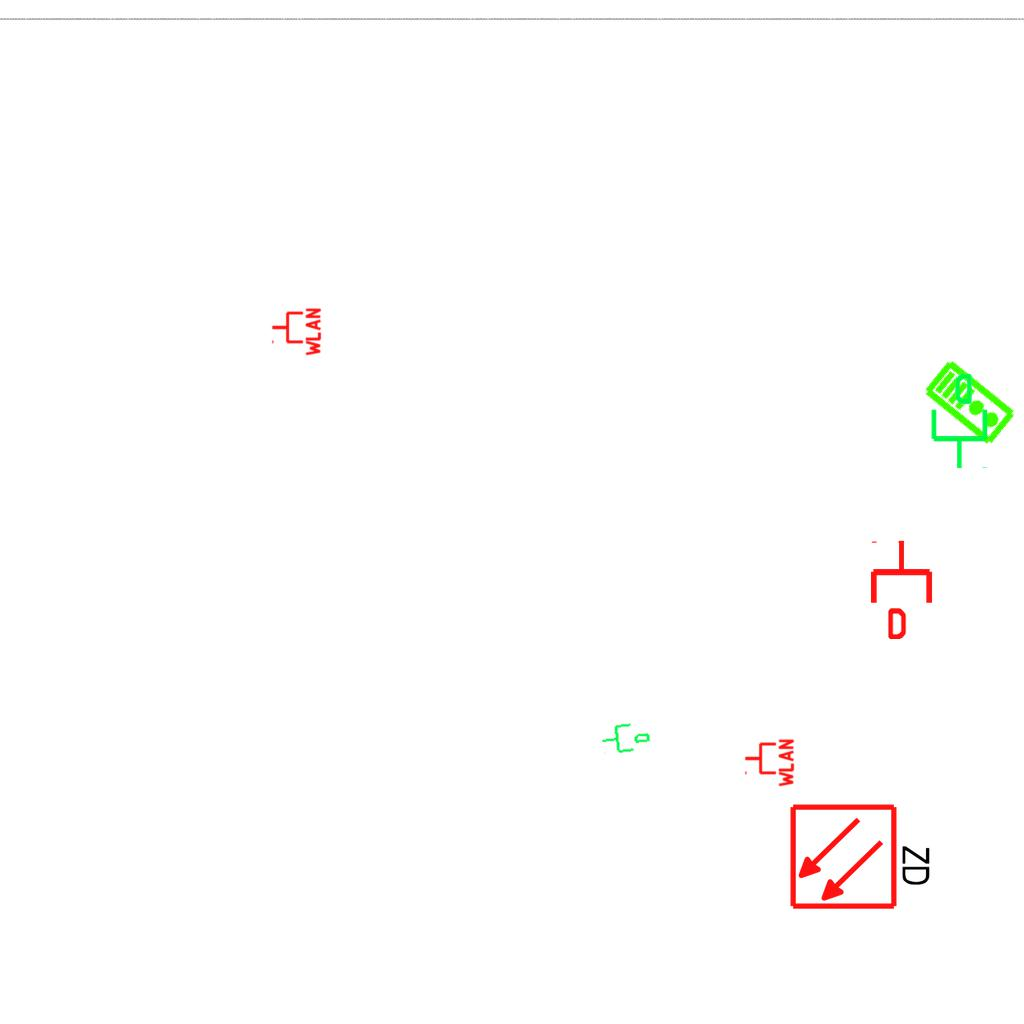Datenanschluss_einfach: (867, 539, 936, 639), (923, 371, 992, 471), (599, 717, 653, 757)
Gegensprechanlage_mit_Video: (921, 356, 1020, 448)
WLAN: (270, 306, 322, 358), (743, 737, 795, 789)
ZD_Melder_in_Zwischendecke_mit_Revisionsoeffnung_mind_40_x_40_cm: (788, 798, 937, 912)
